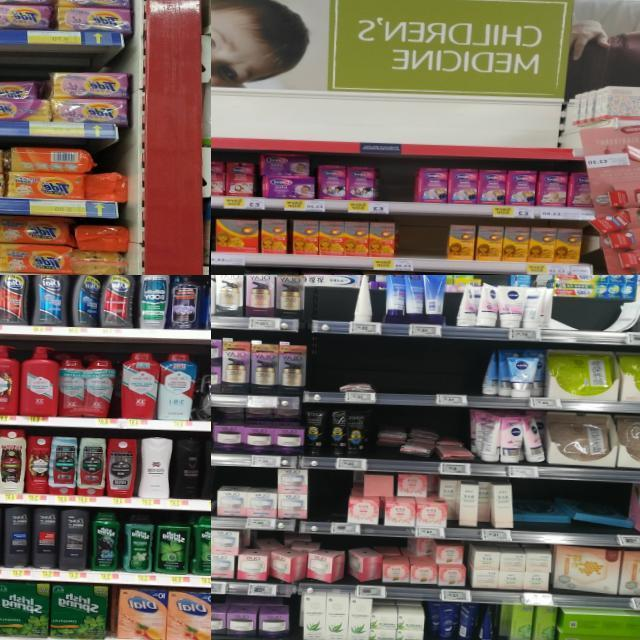empty: (377, 338, 479, 406), (550, 296, 634, 344), (396, 218, 446, 270), (306, 469, 346, 533), (306, 342, 339, 402), (312, 286, 352, 334), (378, 158, 412, 212)
